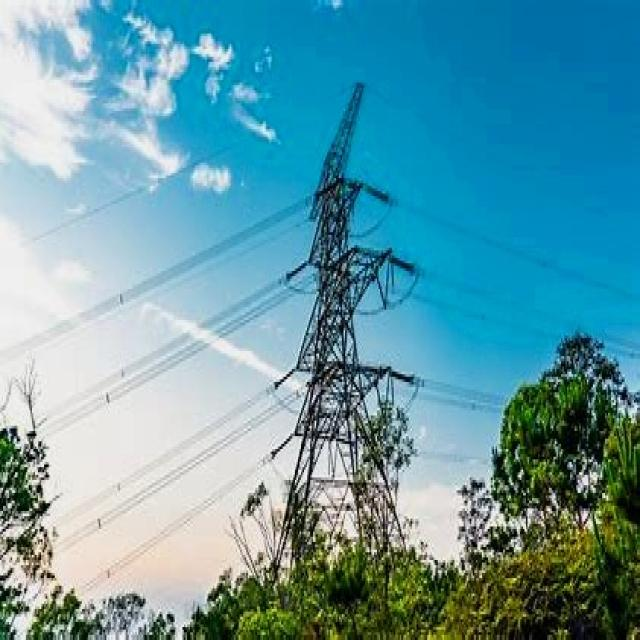utility poles: (312, 338, 436, 531), (471, 306, 609, 477)
